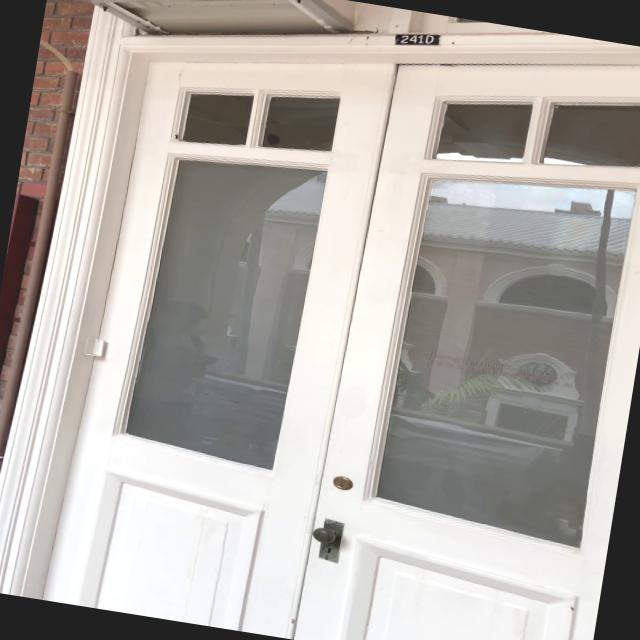room241d: (392, 26, 444, 54)
